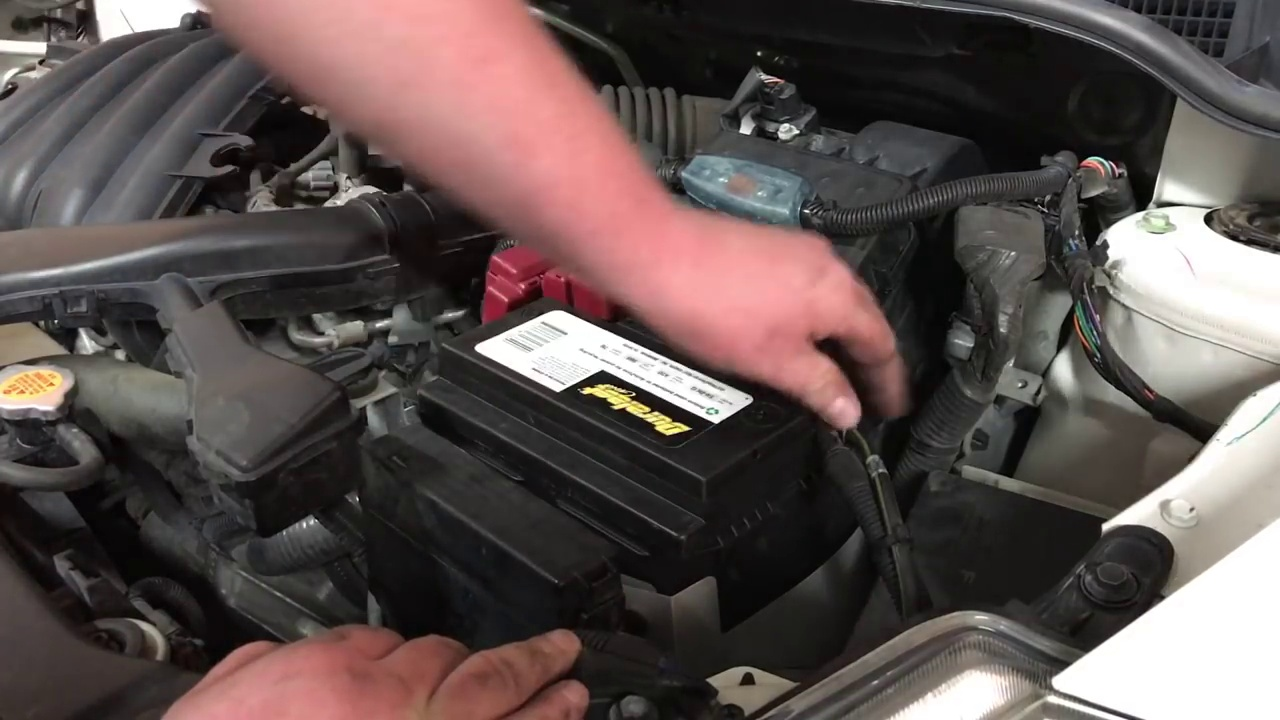battery: (436, 264, 856, 471)
pos_connected: (469, 221, 641, 341)
pos_touched: (466, 171, 690, 337)
